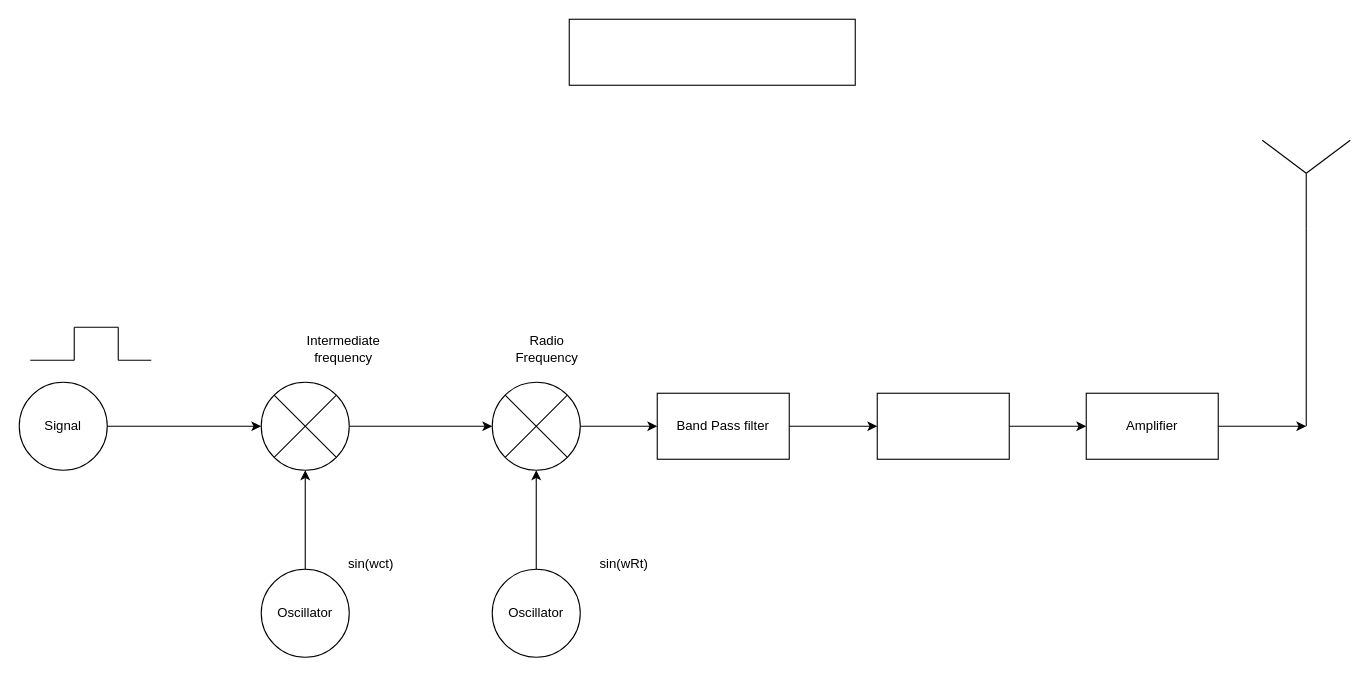
Image size: 1371x677. Some labels were removed from this diagram. The centre of each missing label's shape, as x and y in pixels:
"Pulse Shaping Filter" belongs at (x=942, y=425).
"Transmitter diagram" belongs at (x=711, y=51).
